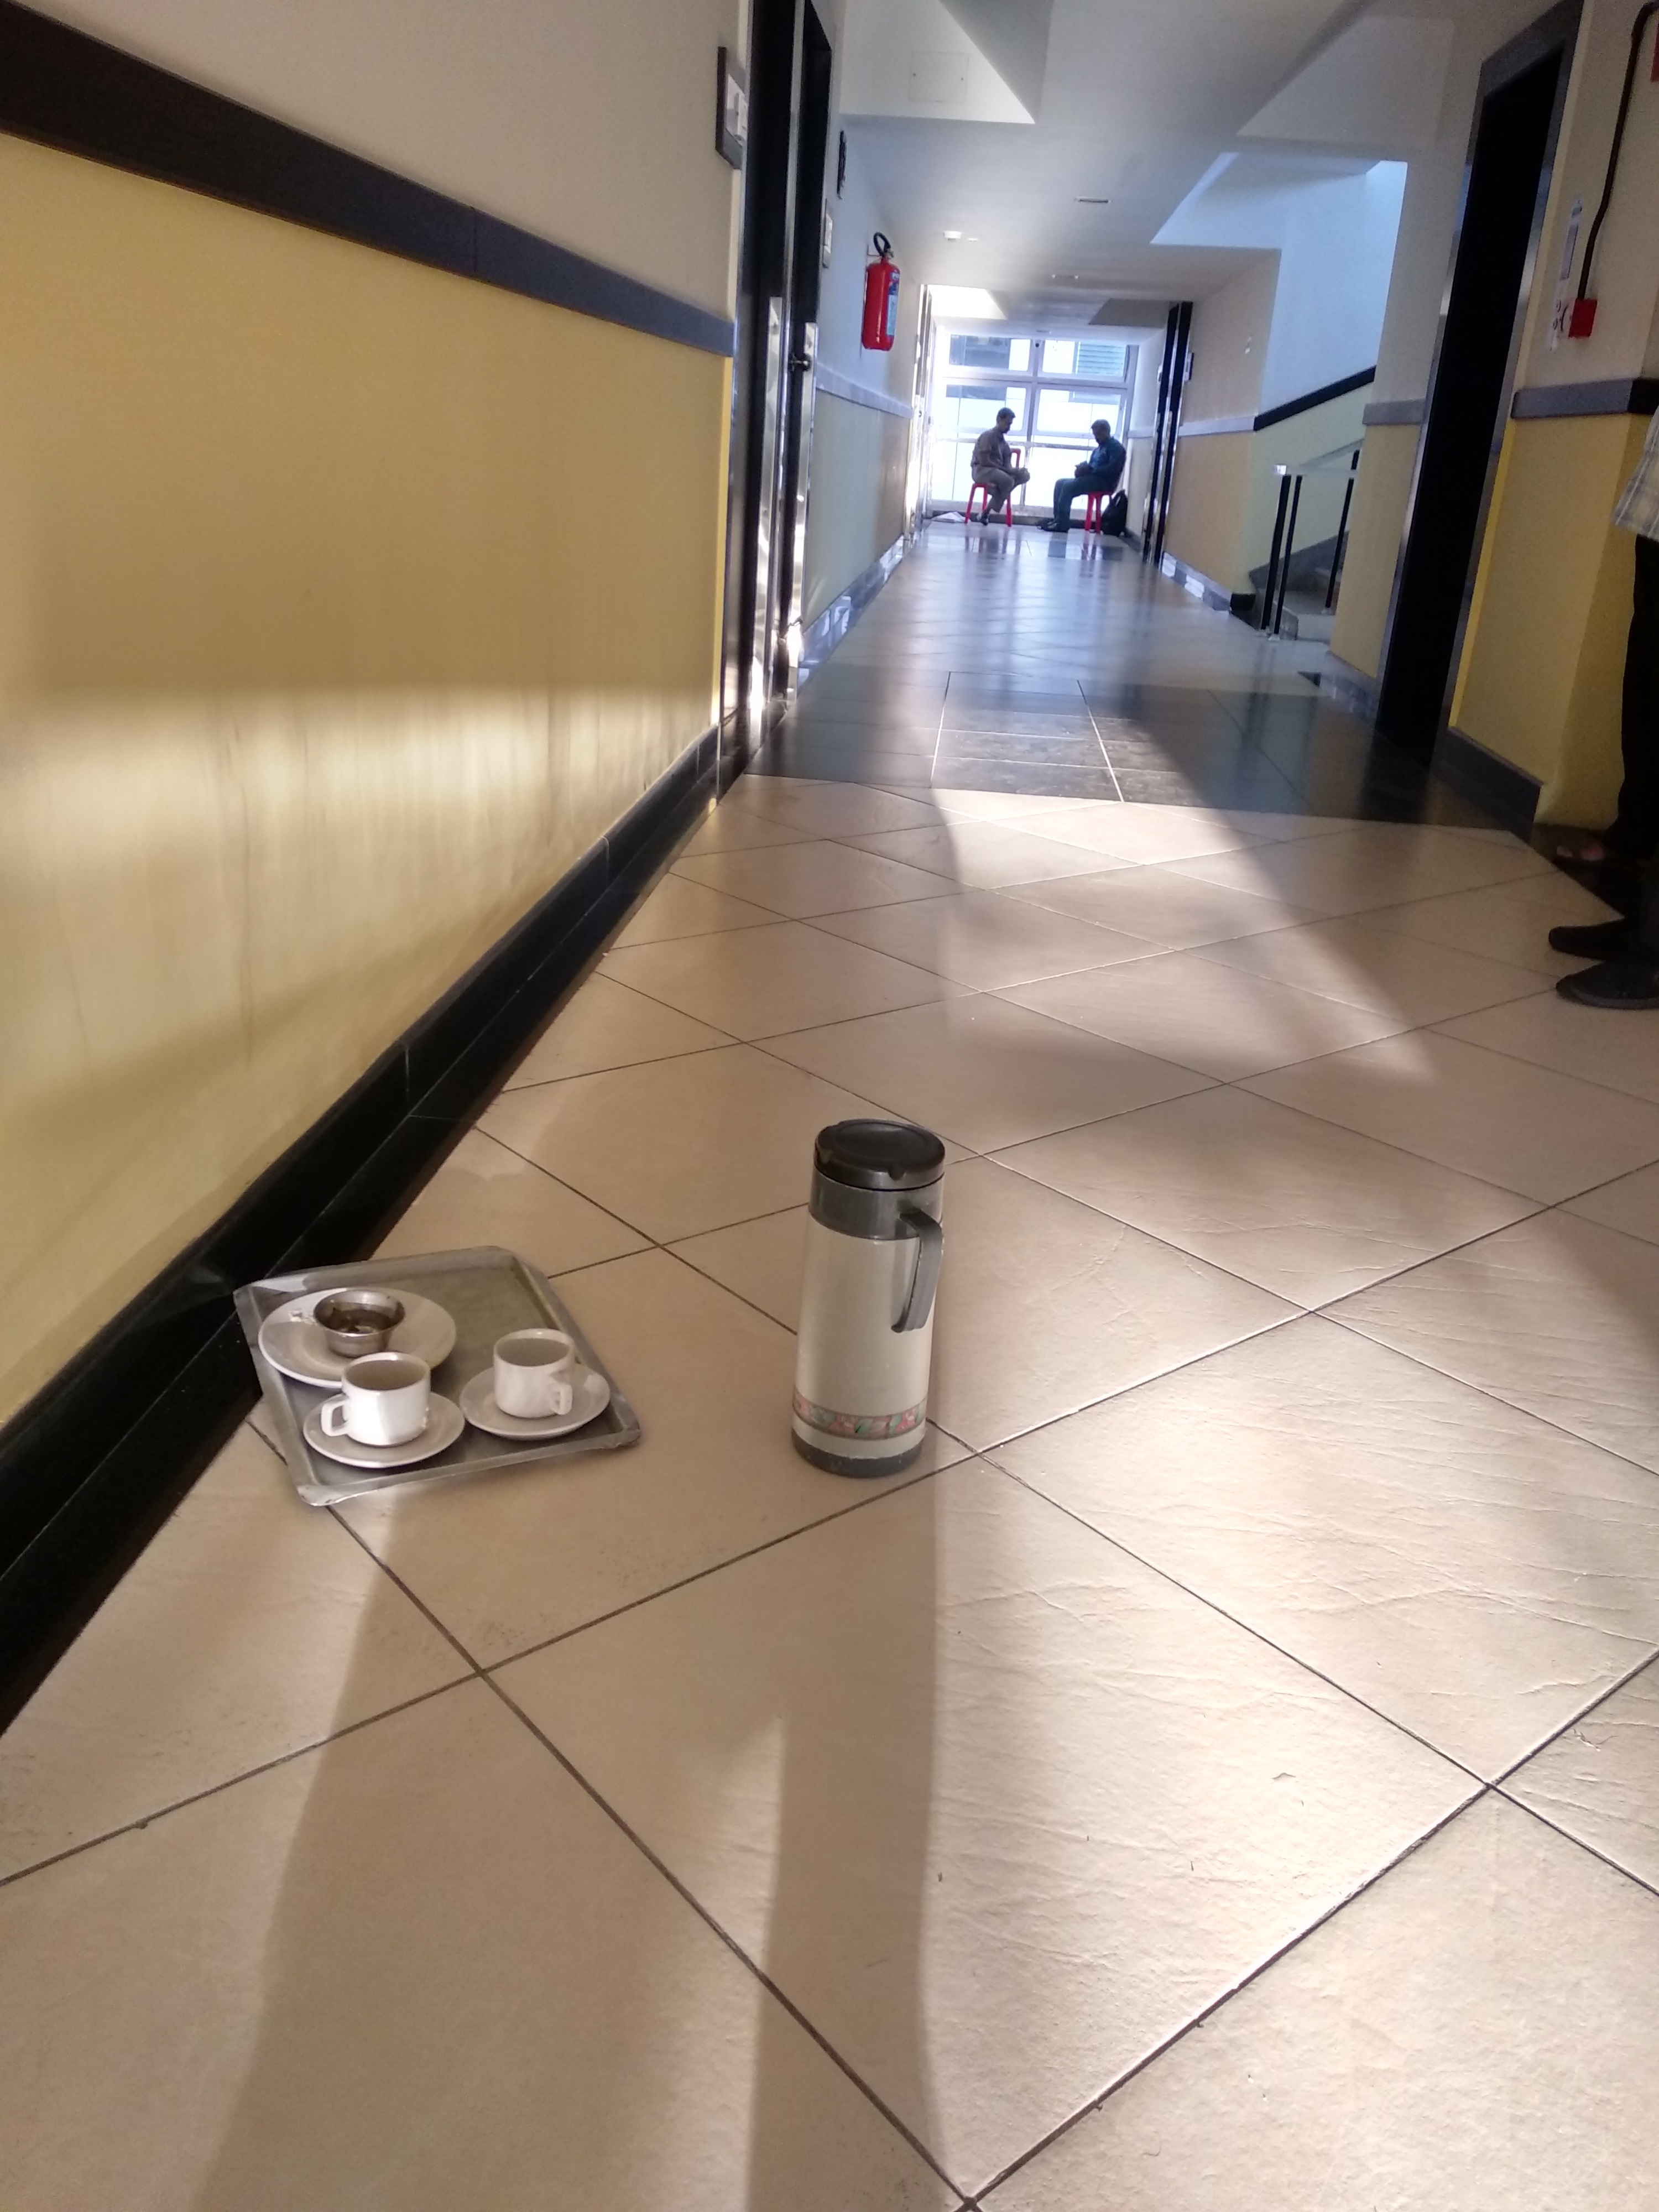CUP: (319, 1352, 441, 1447), (479, 1324, 591, 1421), (305, 1284, 406, 1343)
JUG: (770, 1111, 969, 1486)
